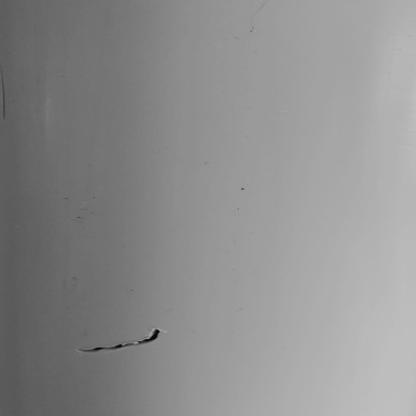fengxi: (75, 328, 160, 356)
